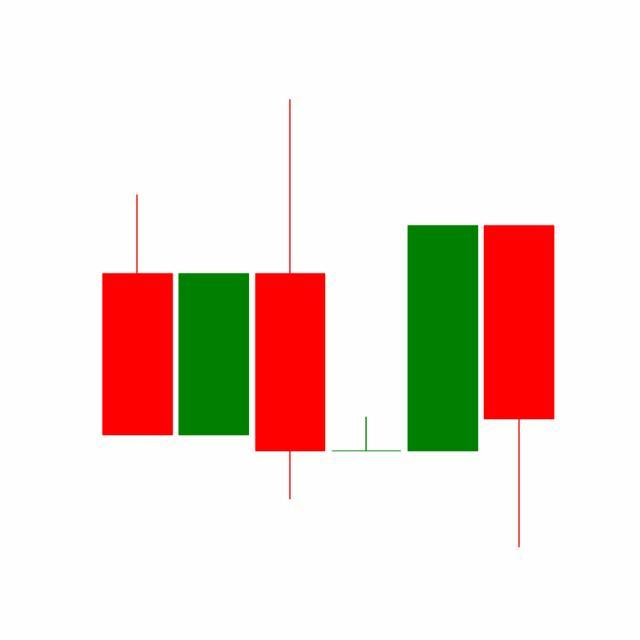Marubozu: (404, 223, 482, 455)
